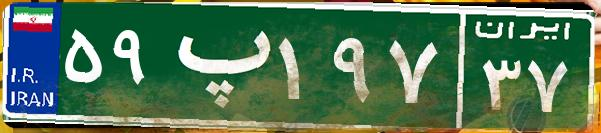1: (273, 28, 330, 110)
3: (475, 38, 525, 113)
5: (57, 26, 110, 107)
7: (385, 28, 445, 110), (525, 38, 570, 115)
9: (330, 28, 385, 110), (110, 28, 158, 105)
پ: (158, 15, 273, 115)
